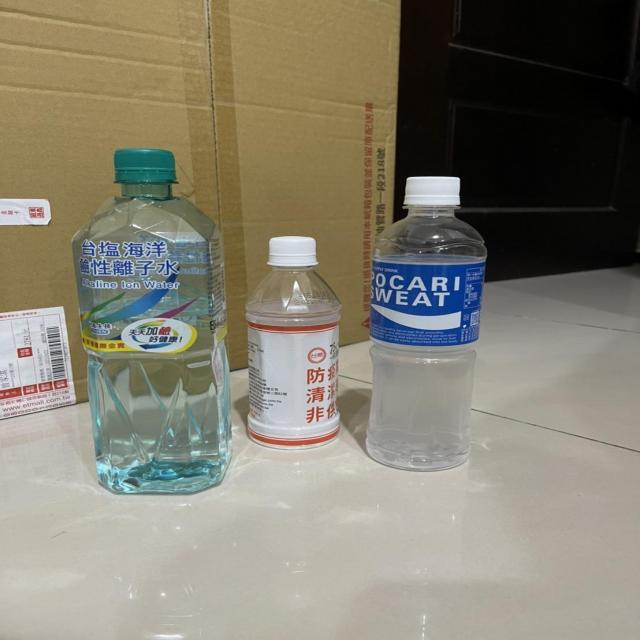bottle: (63, 143, 239, 503), (358, 170, 492, 478), (240, 233, 349, 460)
